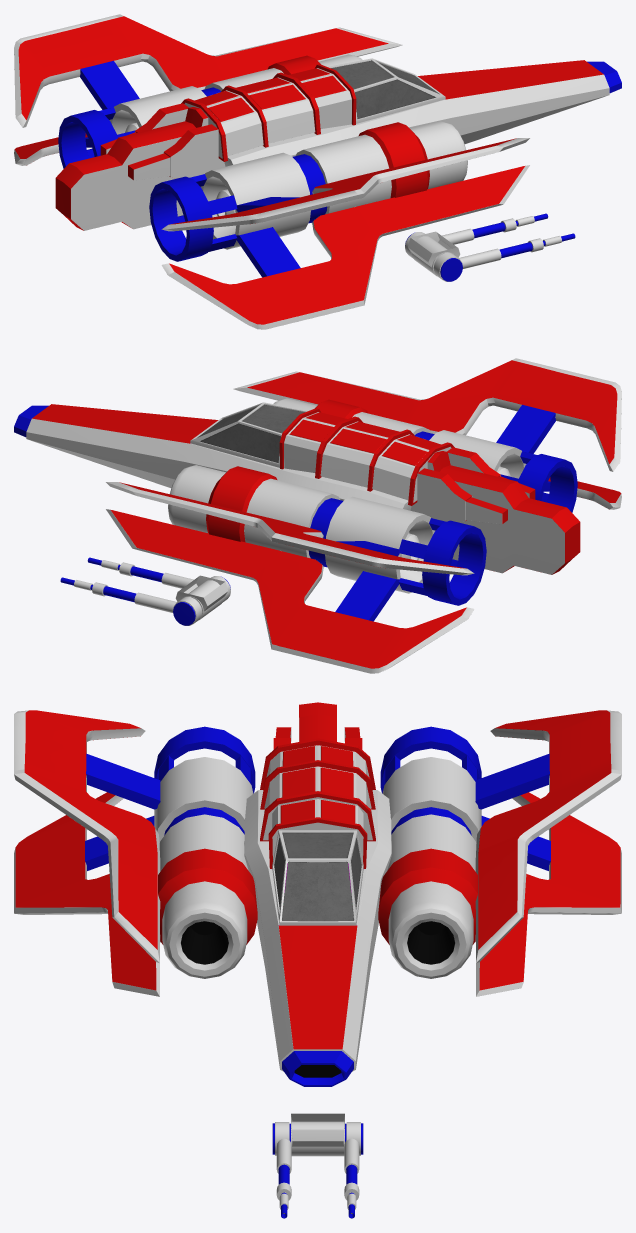
File: SM_Vehicle_AttackGunship_Exploded.fbx
3 renders of one model, top to bottom at view 1: azimuth 30°, elevation 25°; view 2: azimuth 150°, elevation 25°; view 3: azimuth 270°, elevation 25°, orthographic. The views are drawn at different scales.
Parts seen in each view (by area): view 1: MeshMainHull, MeshWings, MeshBackDetail, MeshGlass, MeshCanoply; view 2: MeshMainHull, MeshWings, MeshBackDetail, MeshGlass, MeshCanoply; view 3: MeshMainHull, MeshWings, MeshGlass, MeshCanoply.
Part boxes in pixels (x1,y1,x2,y2): MeshMainHull: (55,54,621,281); MeshWings: (14,14,529,329); MeshBackDetail: (100,103,225,180); MeshGlass: (331,60,438,118); MeshCanoply: (327,58,445,123); MeshMainHull: (14,398,580,625); MeshWings: (106,358,621,673); MeshBackDetail: (410,447,535,524); MeshGlass: (197,404,304,462); MeshCanoply: (190,402,308,467); MeshMainHull: (154,702,481,1218); MeshWings: (14,710,621,996); MeshGlass: (274,833,361,921); MeshCanoply: (272,830,363,925).
Bounding box in the file's own units: 751 × 581 × 294.
3 materials, 2 textured.
